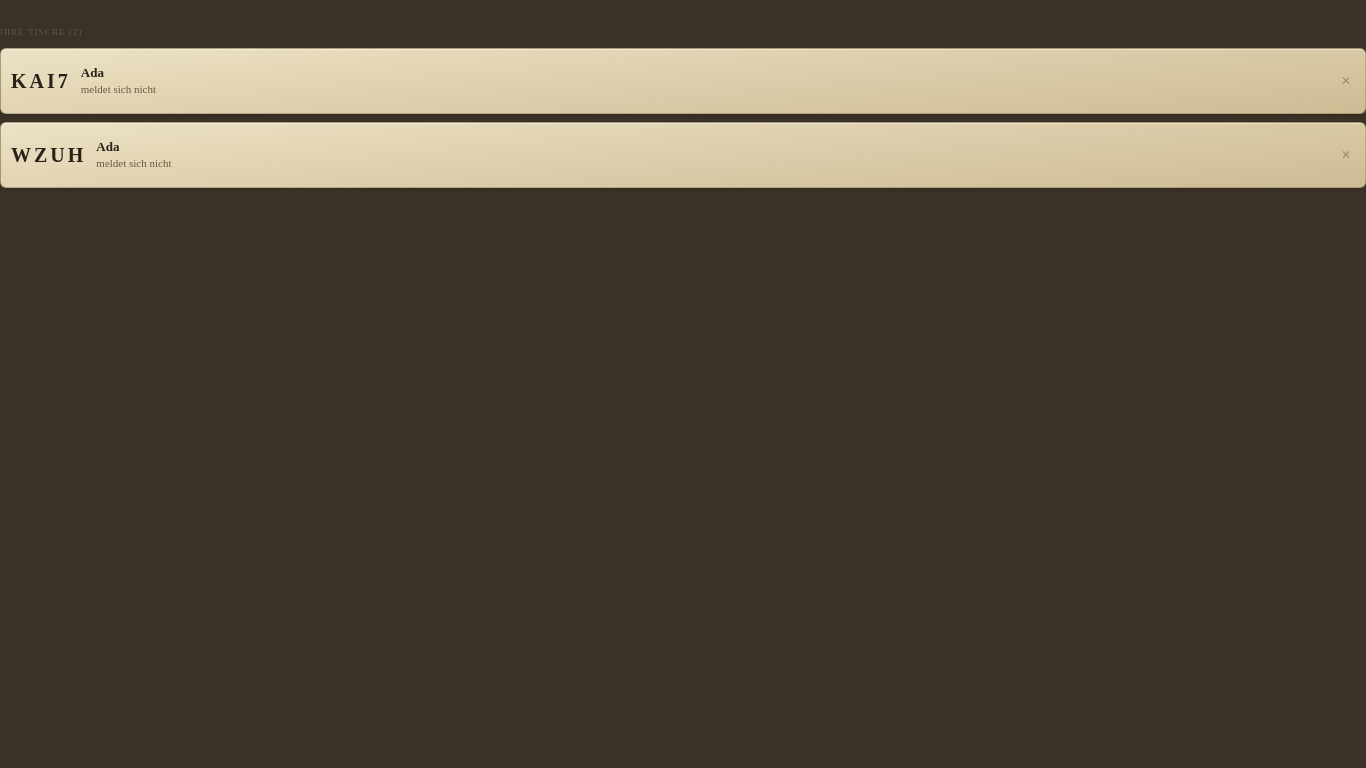
the tables you are sitting at › takes a seat off the list and out of storage together
Step 1. Click the button named "WZUH" → (1346, 155), box [1337, 139, 1355, 171]
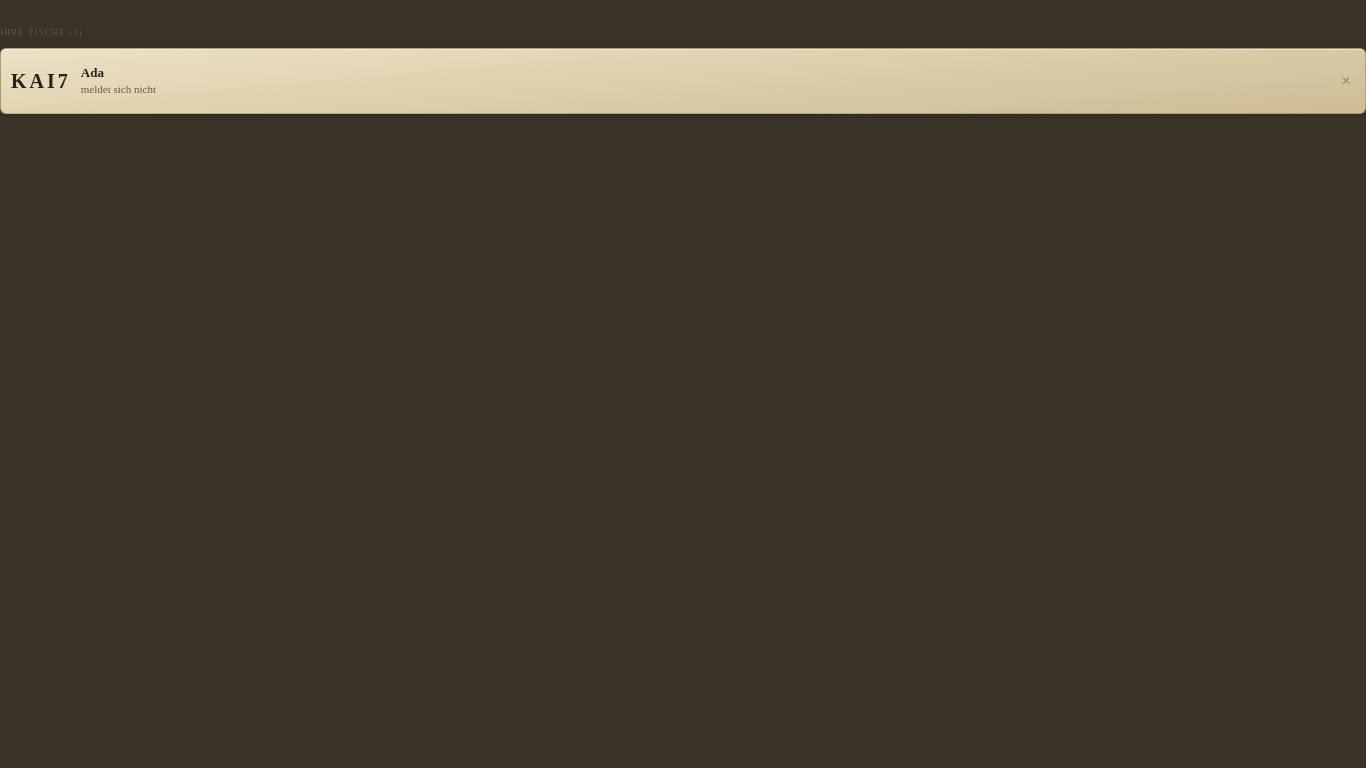
expect the text "KAI7" is shown: met, box [11, 67, 71, 95]
expect the button "WZUH" is gone: met
